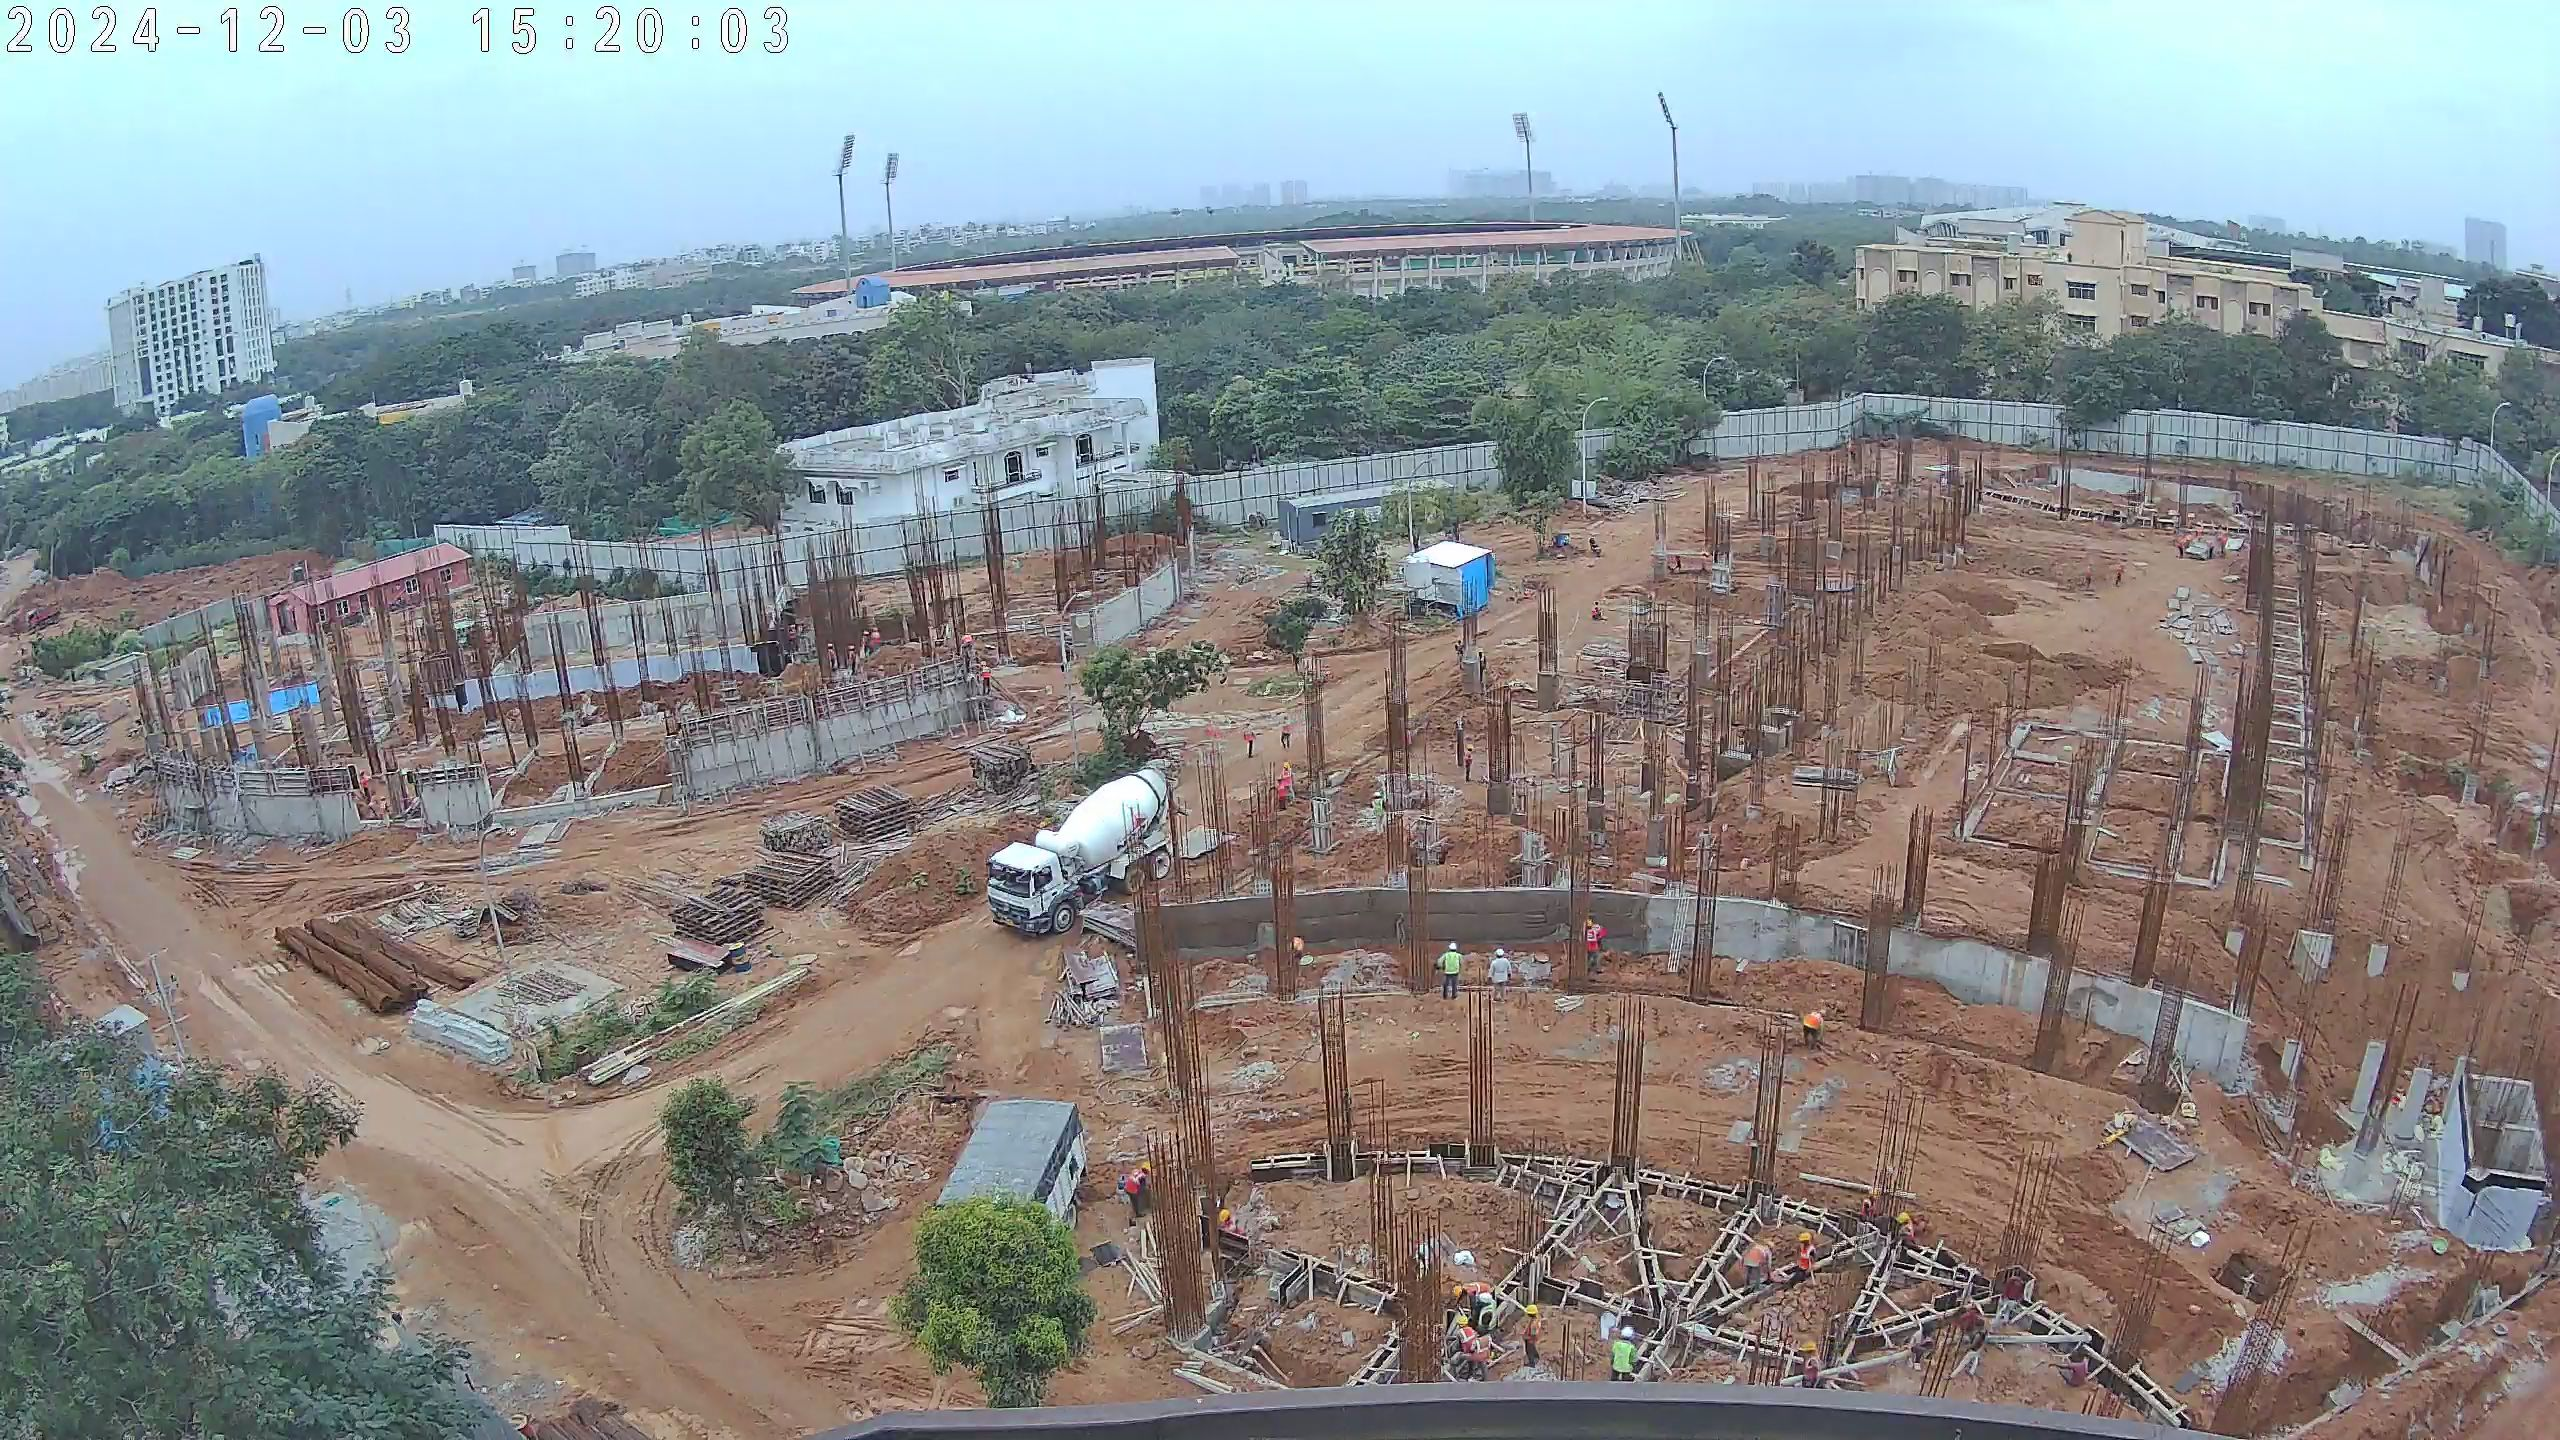truck: (989, 770, 1179, 941), (935, 1097, 1087, 1272)
worker: (1442, 1309, 1487, 1383), (1120, 1149, 1164, 1222), (1606, 1319, 1643, 1393), (1572, 916, 1616, 975), (1948, 1316, 1988, 1380), (1789, 1000, 1833, 1056), (2049, 1344, 2098, 1392), (1741, 1233, 1778, 1296), (1215, 1203, 1255, 1258), (1470, 1289, 1506, 1347), (1907, 1311, 1942, 1369), (1435, 935, 1464, 1002), (1450, 1273, 1500, 1310), (1520, 1302, 1547, 1370), (1792, 1222, 1817, 1292), (1794, 1338, 1826, 1392), (1489, 939, 1514, 1006), (1855, 1179, 1880, 1232), (1890, 1209, 1919, 1248), (1367, 788, 1389, 836), (1276, 710, 1297, 754), (1239, 720, 1260, 761), (1280, 758, 1298, 805), (978, 659, 997, 700), (1451, 714, 1470, 755), (1461, 740, 1478, 785), (842, 643, 862, 681), (823, 640, 842, 679), (1588, 596, 1611, 628), (1275, 770, 1290, 818), (355, 768, 374, 805), (859, 627, 874, 662), (2173, 533, 2192, 560), (1475, 646, 1488, 683), (869, 626, 884, 658), (2214, 529, 2229, 558), (960, 631, 977, 656), (2083, 562, 2096, 593), (2114, 562, 2128, 590), (2191, 524, 2207, 547), (1454, 636, 1465, 667), (2204, 536, 2217, 561)
